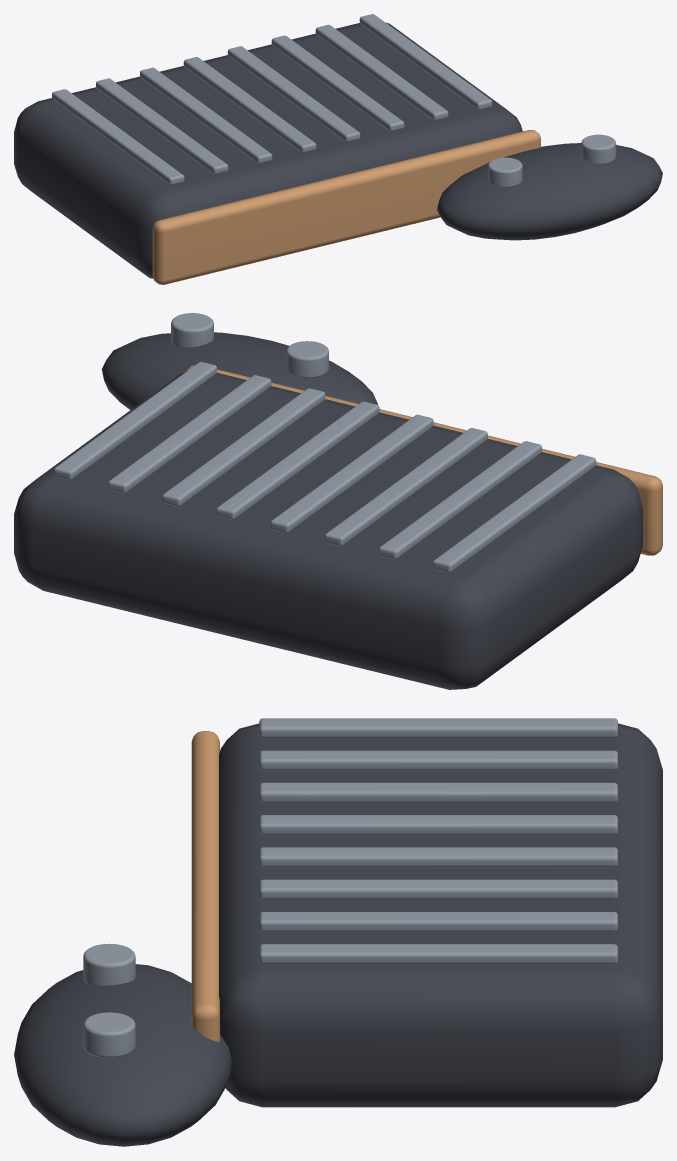
Rendered from consoleAtari.glb.
3 renders of one model, top to bottom at view 1: azimuth 30°, elevation 25°; view 2: azimuth 150°, elevation 25°; view 3: azimuth 270°, elevation 25°, orthographic. The views are drawn at different scales.
Parts seen in each view (by area): view 1: Console housing, Wood front, Controller, Case ridge.004, Case ridge.005, Case ridge.007, Case ridge.001, Case ridge, Case ridge.006, Case ridge.002, Case ridge.003, Controller stick (+1 smaller); view 2: Console housing, Controller, Case ridge.002, Case ridge.004, Case ridge, Case ridge.001, Case ridge.005, Case ridge.006, Case ridge.003, Case ridge.007, Wood front, Controller stick (+1 smaller); view 3: Console housing, Controller, Wood front, Case ridge.004, Case ridge.001, Case ridge, Case ridge.002, Case ridge.005, Case ridge.003, Case ridge.007, Case ridge.006, Controller stick.001 (+1 smaller).
Boxes of the visible parts, bbox=[...] form: Console housing: bbox=[14, 22, 522, 278]; Wood front: bbox=[152, 130, 540, 284]; Controller: bbox=[437, 143, 662, 240]; Case ridge.004: bbox=[227, 46, 360, 142]; Case ridge.005: bbox=[271, 35, 404, 131]; Case ridge.007: bbox=[359, 14, 492, 110]; Case ridge.001: bbox=[96, 78, 228, 174]; Case ridge: bbox=[52, 89, 184, 185]; Case ridge.006: bbox=[315, 24, 448, 120]; Case ridge.002: bbox=[140, 67, 272, 163]; Case ridge.003: bbox=[183, 57, 316, 152]; Controller stick: bbox=[488, 157, 522, 187]; Console housing: bbox=[14, 372, 642, 689]; Controller: bbox=[101, 332, 377, 409]; Case ridge.002: bbox=[324, 428, 487, 546]; Case ridge.004: bbox=[216, 401, 379, 519]; Case ridge: bbox=[433, 454, 596, 572]; Case ridge.001: bbox=[378, 441, 541, 559]; Case ridge.005: bbox=[162, 388, 325, 506]; Case ridge.006: bbox=[108, 375, 271, 493]; Case ridge.003: bbox=[270, 414, 433, 532]; Case ridge.007: bbox=[54, 362, 216, 480]; Wood front: bbox=[186, 365, 662, 555]; Controller stick: bbox=[286, 341, 328, 378]; Console housing: bbox=[219, 723, 662, 1107]; Controller: bbox=[14, 964, 232, 1146]; Wood front: bbox=[191, 731, 219, 1041]; Case ridge.004: bbox=[259, 847, 617, 867]; Case ridge.001: bbox=[259, 750, 617, 770]; Case ridge: bbox=[259, 718, 617, 738]; Case ridge.002: bbox=[259, 782, 617, 802]; Case ridge.005: bbox=[259, 879, 617, 899]; Case ridge.003: bbox=[259, 815, 617, 835]; Case ridge.007: bbox=[259, 944, 617, 964]; Case ridge.006: bbox=[259, 912, 617, 931]; Controller stick.001: bbox=[83, 1012, 135, 1057].
Size of the model in its own units: 1.73 by 0.3435 by 1.36.
